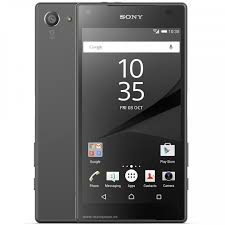sony: (72, 2, 191, 223)
